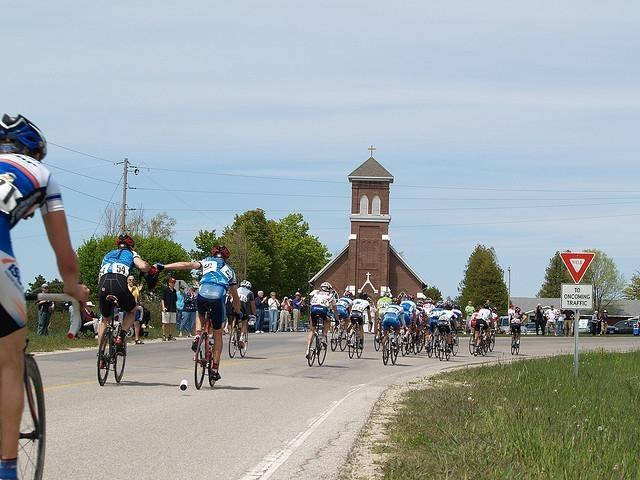bicycle: (17, 292, 82, 480), (97, 294, 127, 387), (194, 312, 217, 390), (307, 314, 338, 366), (346, 318, 372, 359), (472, 324, 496, 357), (229, 320, 249, 356), (439, 326, 458, 362), (382, 330, 400, 366), (330, 321, 350, 352), (402, 327, 422, 356), (511, 325, 522, 356), (374, 316, 384, 350)
car: (248, 310, 310, 332), (500, 316, 528, 335), (612, 320, 638, 334), (525, 322, 542, 334), (608, 323, 620, 335)
